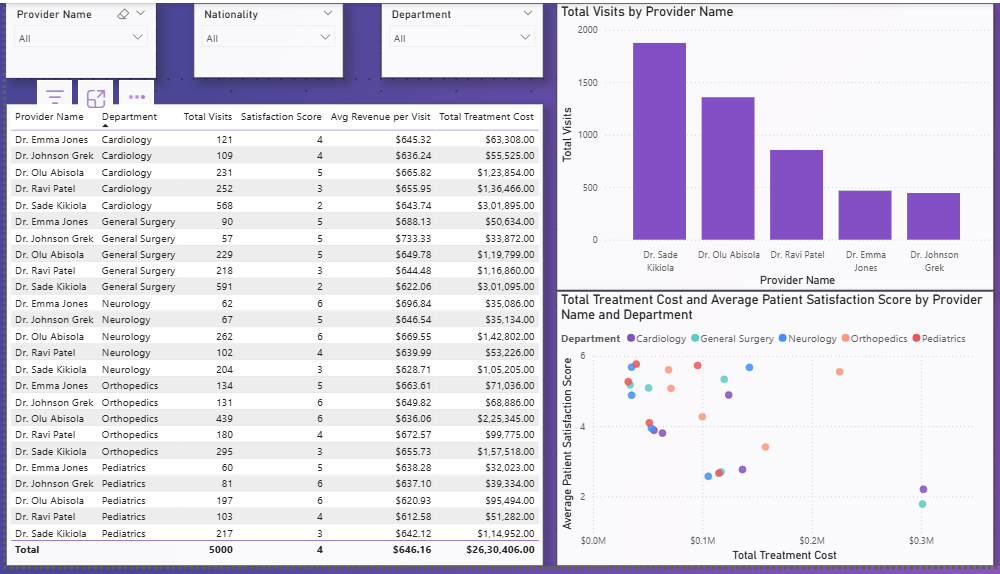

Layout of this report page (visuals, bound fields, positions):
{"tool":"powerbi","page":{"name":"Provider Performance Insights","canvas":[1280,720],"ordinal":1},"visuals":[{"type":"tableEx","fields":{"Values":["providers.Provider Name","departments.Department","visits.Total Visits","visits.Average Patient Satisfaction Score","visits.Average Revenue per Visit","visits.Total Treatment Cost"]},"box":[0,128,688,592],"z":0},{"type":"clusteredColumnChart","fields":{"Category":["providers.Provider Name"],"Y":["visits.Total Visits"]},"box":[704,0,560,368],"z":1},{"type":"scatterChart","fields":{"X":["visits.Total Treatment Cost"],"Y":["visits.Average Patient Satisfaction Score"],"Category":["providers.Provider Name"],"Series":["departments.Department"]},"box":[704,368,560,352],"z":2},{"type":"slicer","fields":{"Values":["providers.Provider Name"]},"box":[0,0,192,96],"z":3},{"type":"slicer","fields":{"Values":["departments.Department"]},"box":[480,0,208,96],"z":4},{"type":"slicer","fields":{"Values":["providers.Nationality"]},"box":[240,0,192,96],"z":6}]}

Visuals, with their boxes in screenshot pixels (x1, y1, x2, y2), scaled from the page's 1280x720 canvas onto the 1000x574 screenshot:
tableEx - providers.Provider Name x departments.Department: [x1=0, y1=102, x2=538, y2=573]
clusteredColumnChart - providers.Provider Name x visits.Total Visits: [x1=550, y1=0, x2=988, y2=293]
scatterChart - visits.Total Treatment Cost x visits.Average Patient Satisfaction Score: [x1=550, y1=293, x2=988, y2=573]
slicer - providers.Provider Name: [x1=0, y1=0, x2=150, y2=77]
slicer - departments.Department: [x1=375, y1=0, x2=538, y2=77]
slicer - providers.Nationality: [x1=188, y1=0, x2=338, y2=77]
